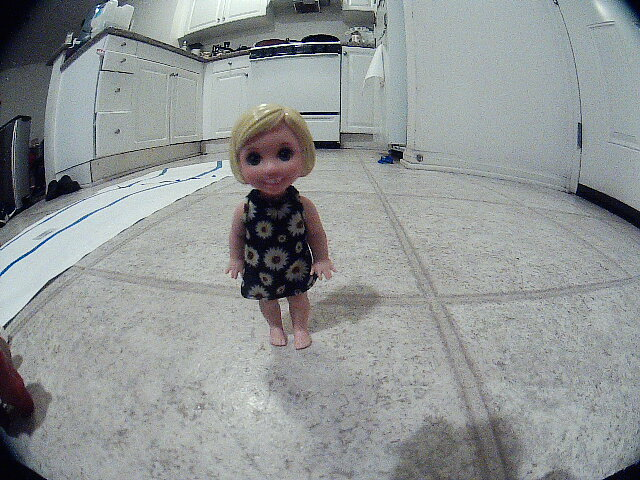Person: (207, 94, 364, 364)
